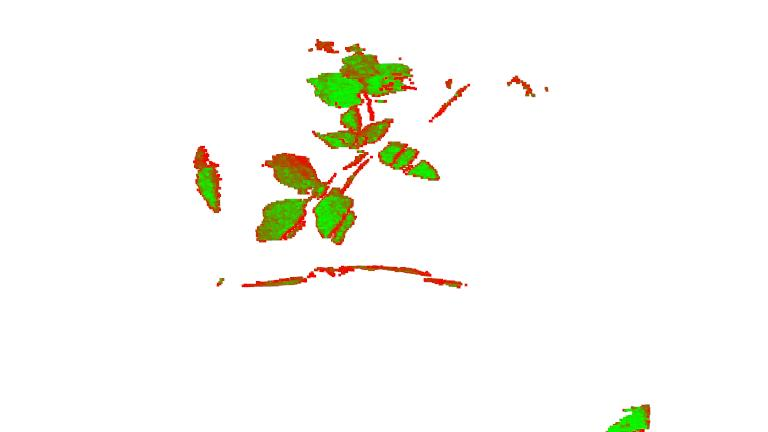mungbean: (254, 41, 445, 247)
